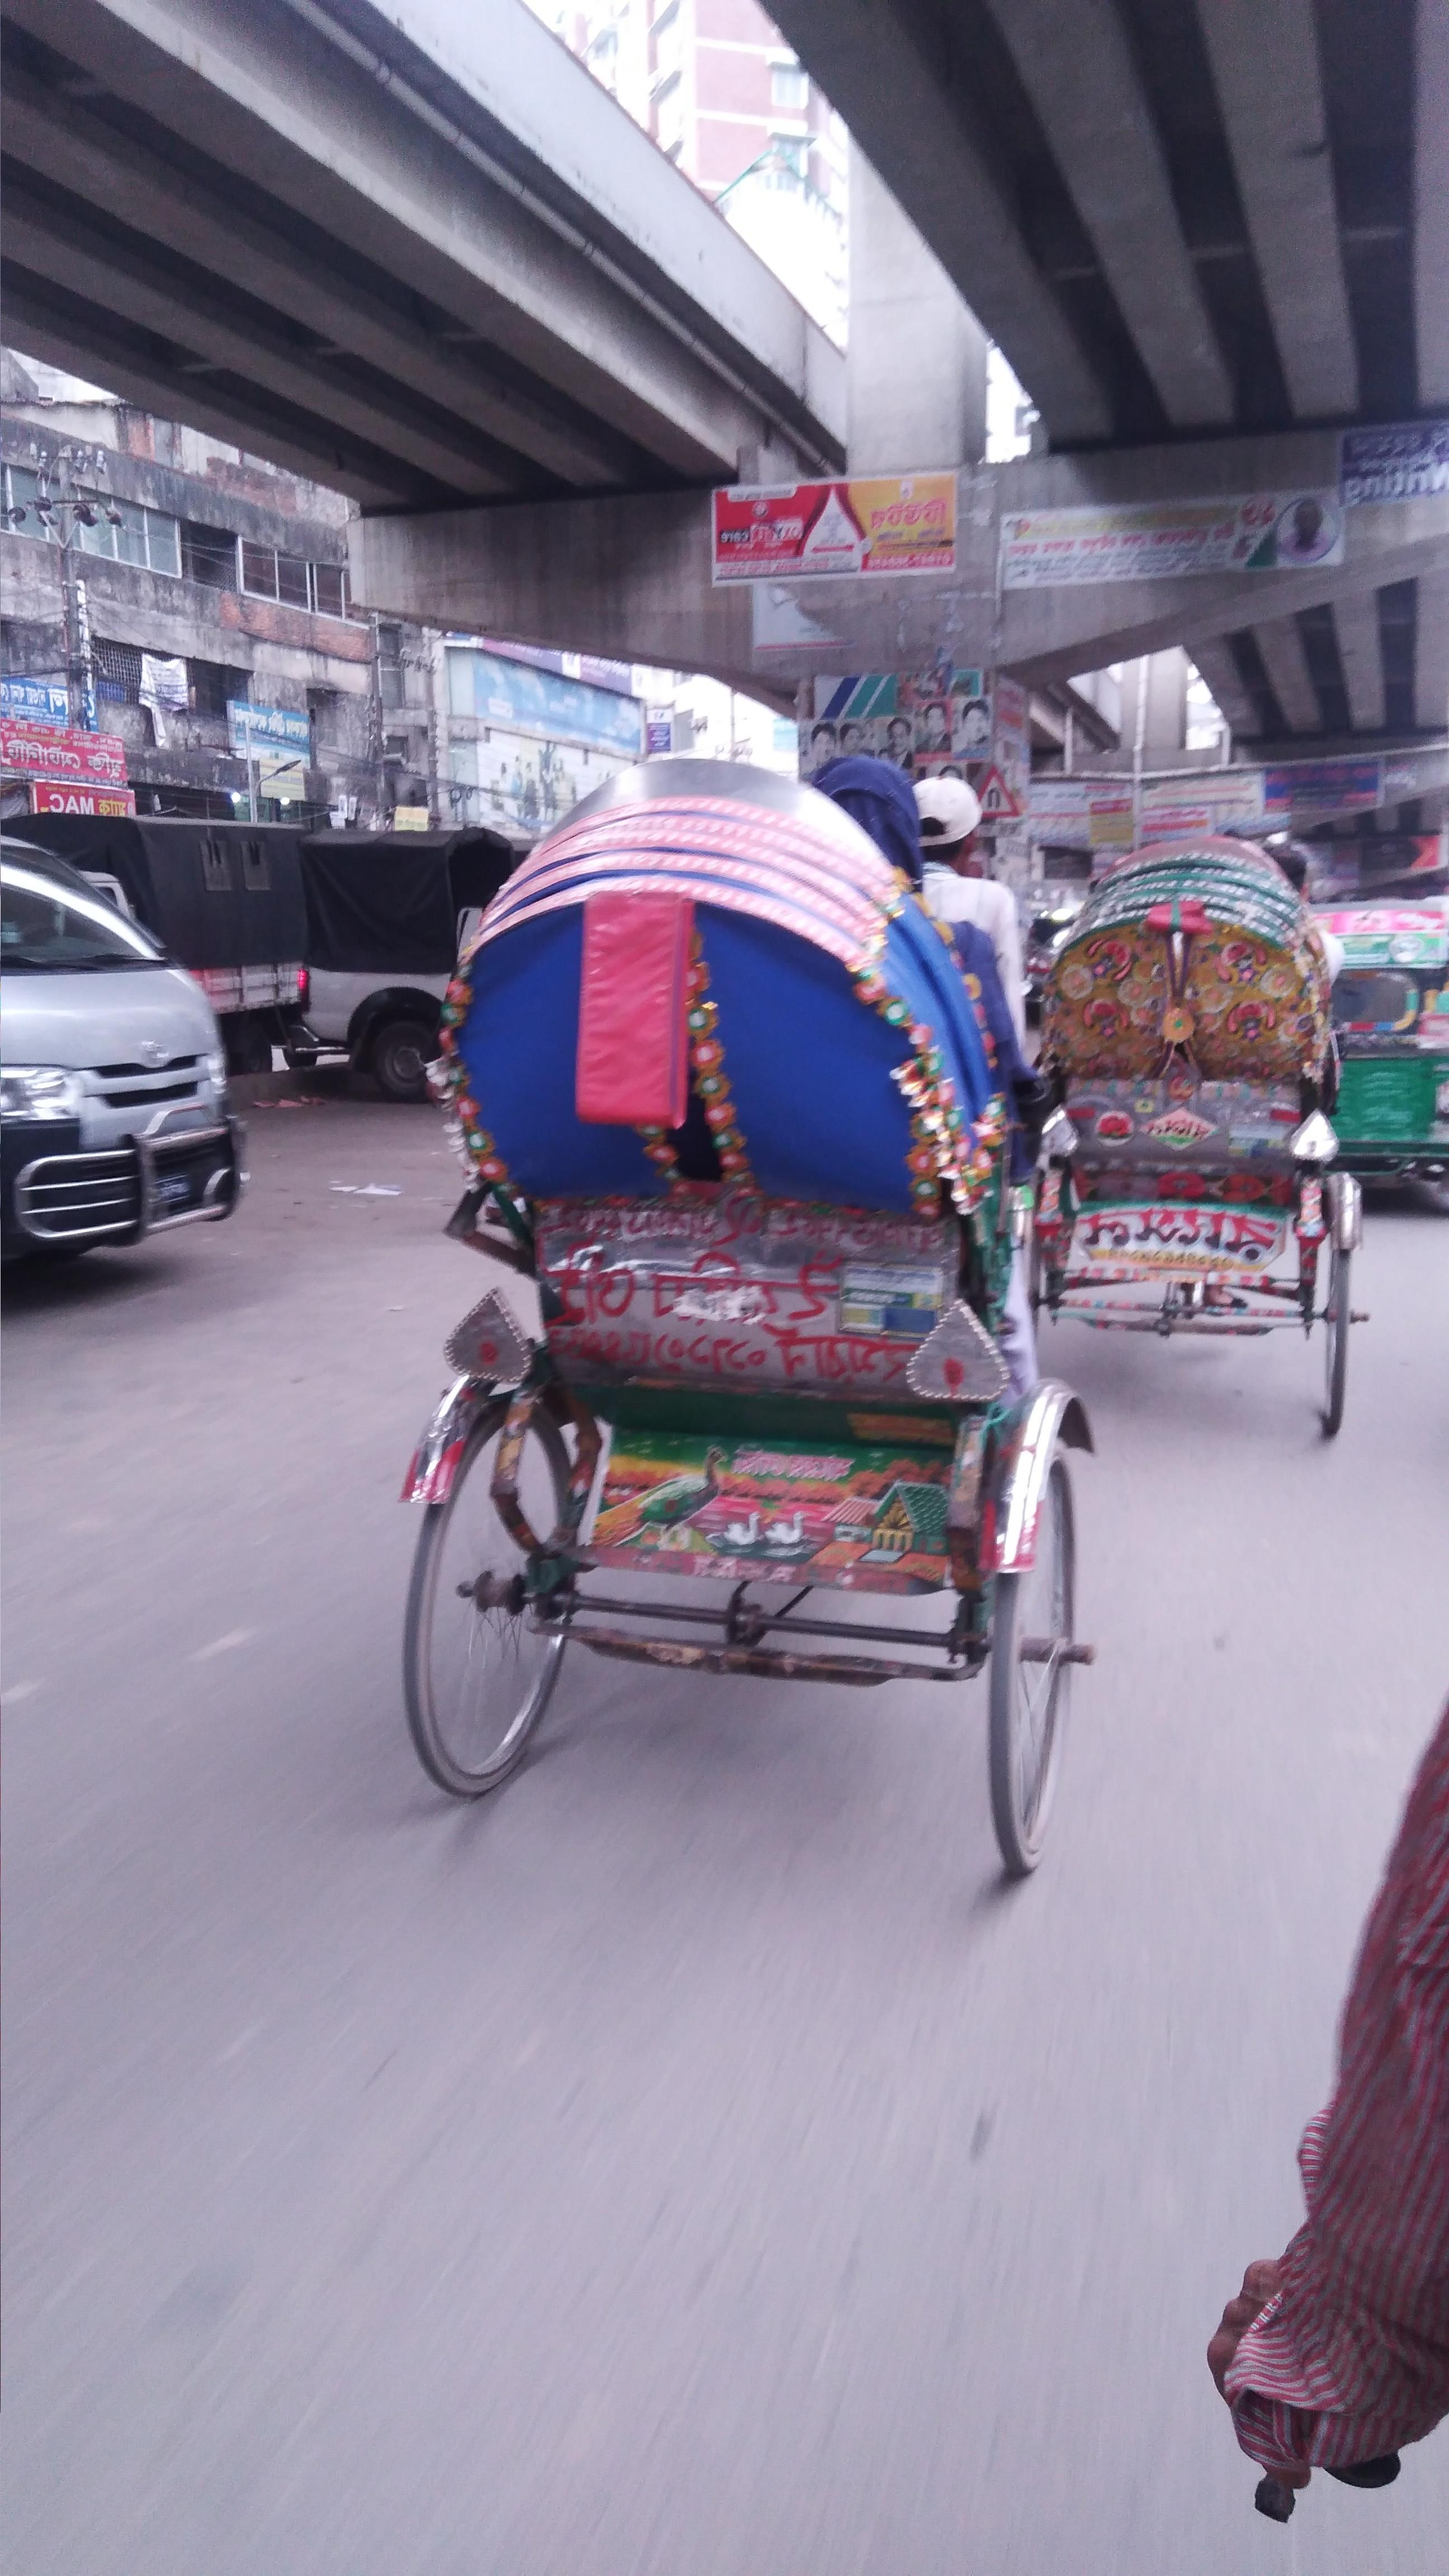Rickshaw: (412, 660, 1097, 1913), (1008, 789, 1382, 1438)
